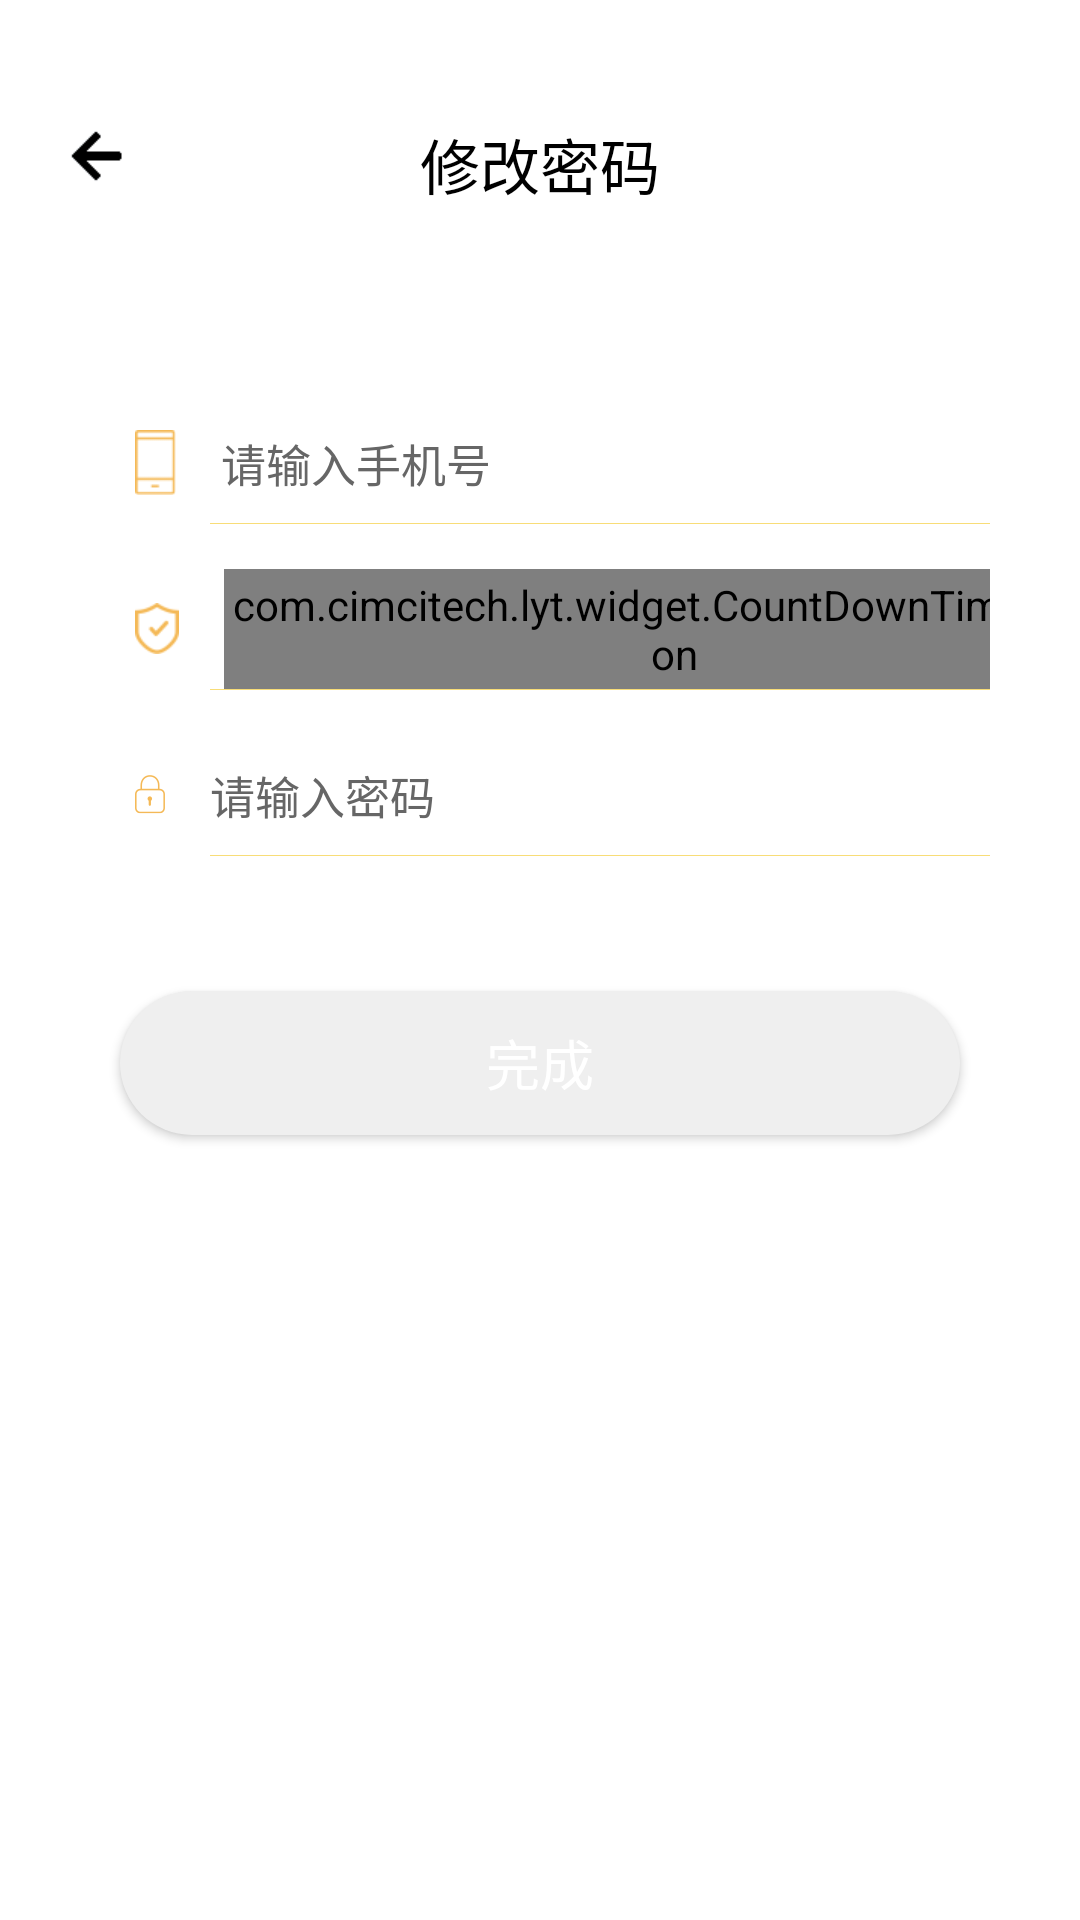

Named icons in this screenshot (1080px×1920px) and their centers, [x,y]:
back: [96,156]
